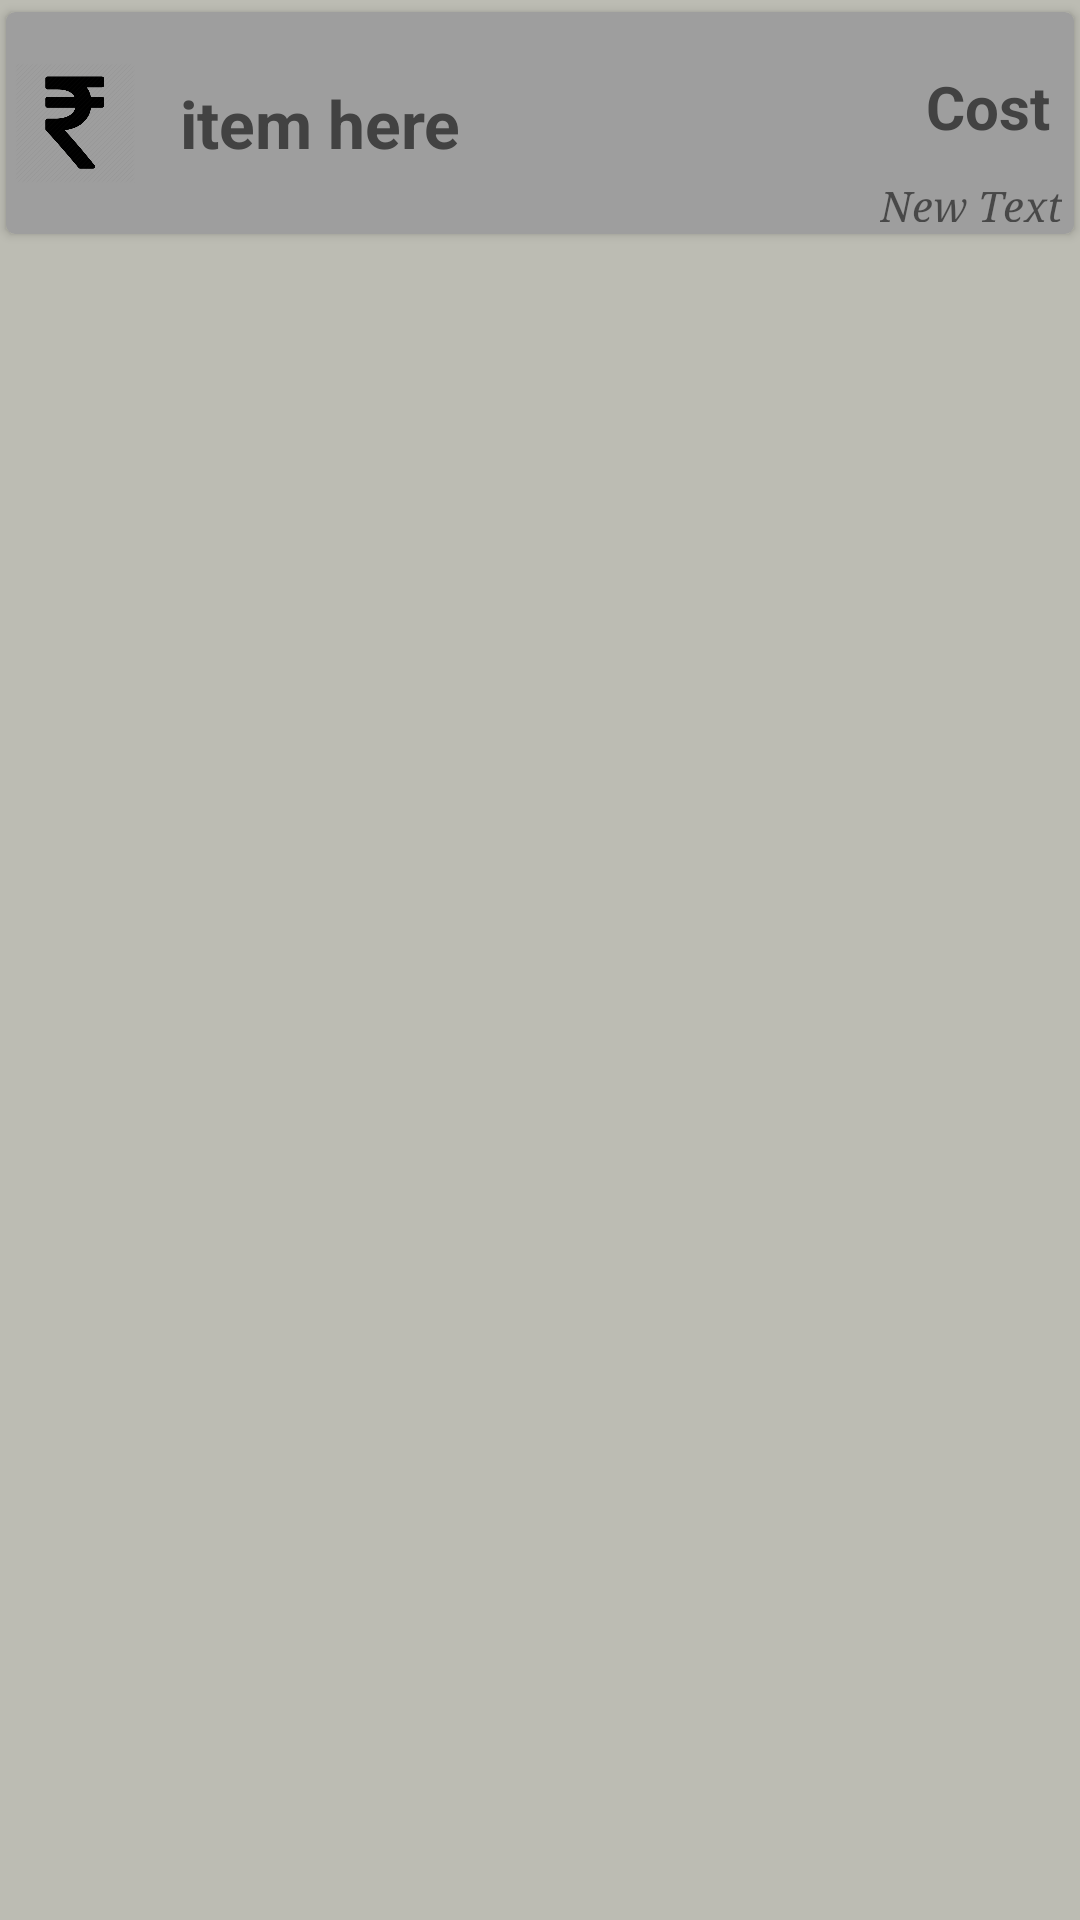

Named icons in this screenshot (1080 x 1920) and their centers, (x=x, y=y):
rupee: (x=74, y=122)
